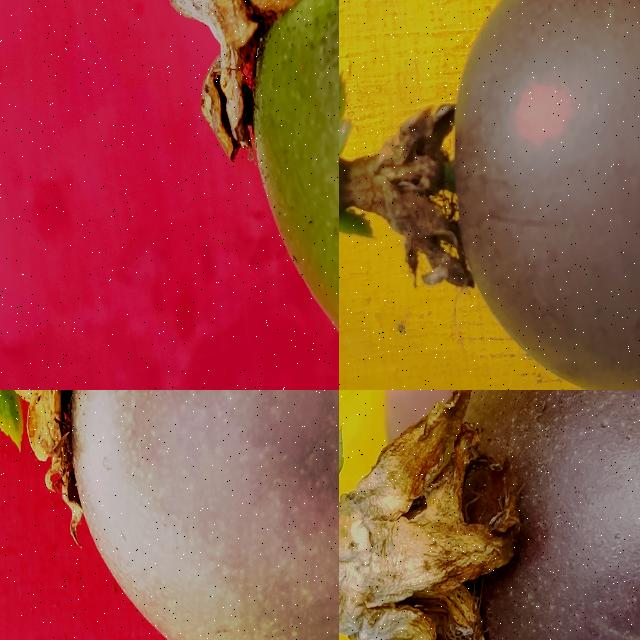Estado-4: (19, 390, 339, 640)
Estado-6: (339, 390, 640, 640)
